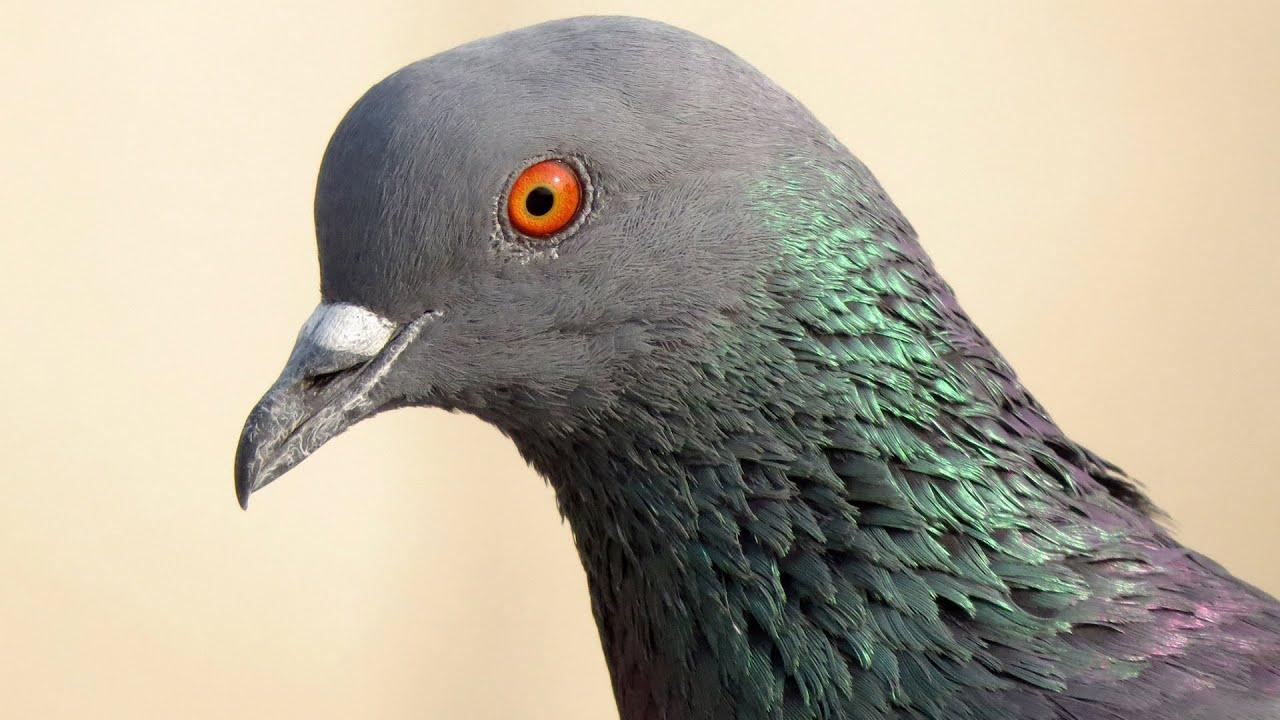Flying Rat: (234, 20, 1280, 717)
